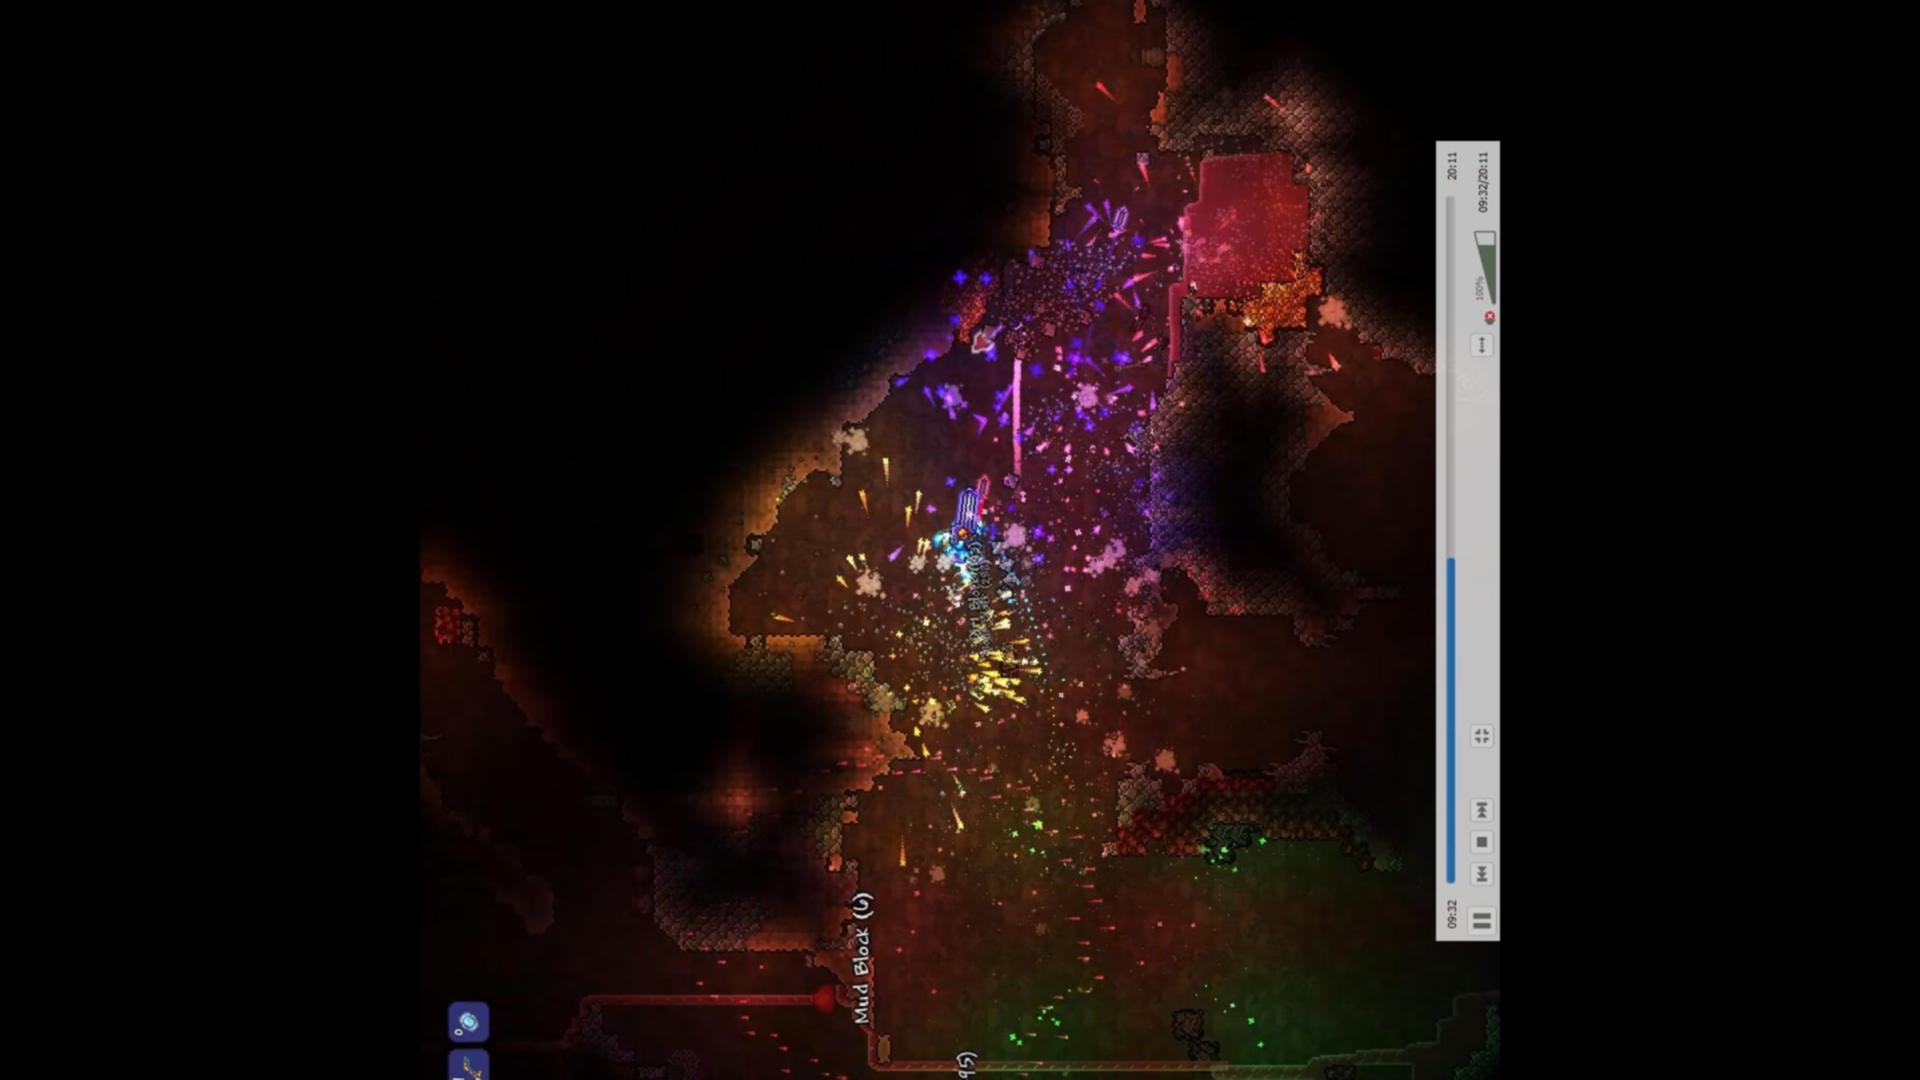altar: (430, 604, 463, 647)
mirror: (452, 1006, 481, 1033)
